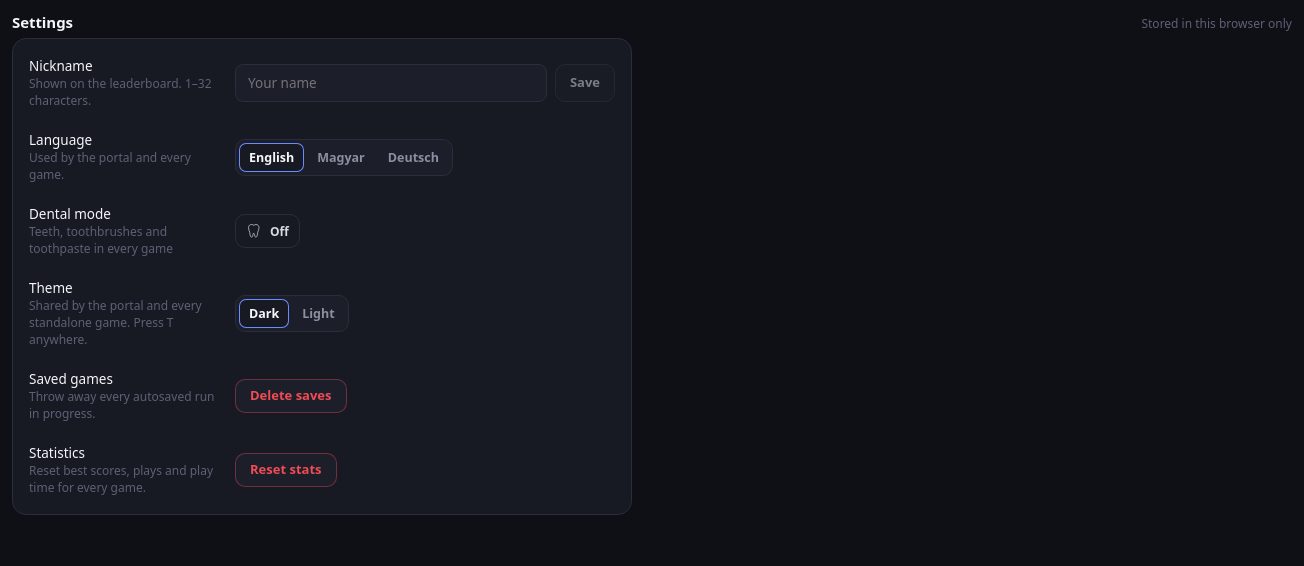
Scenario: Settings › switches language from the segmented control
This screenshot has width=1304, height=566.
Click the button "Magyar" at (341, 157), box [307,142,375,172]
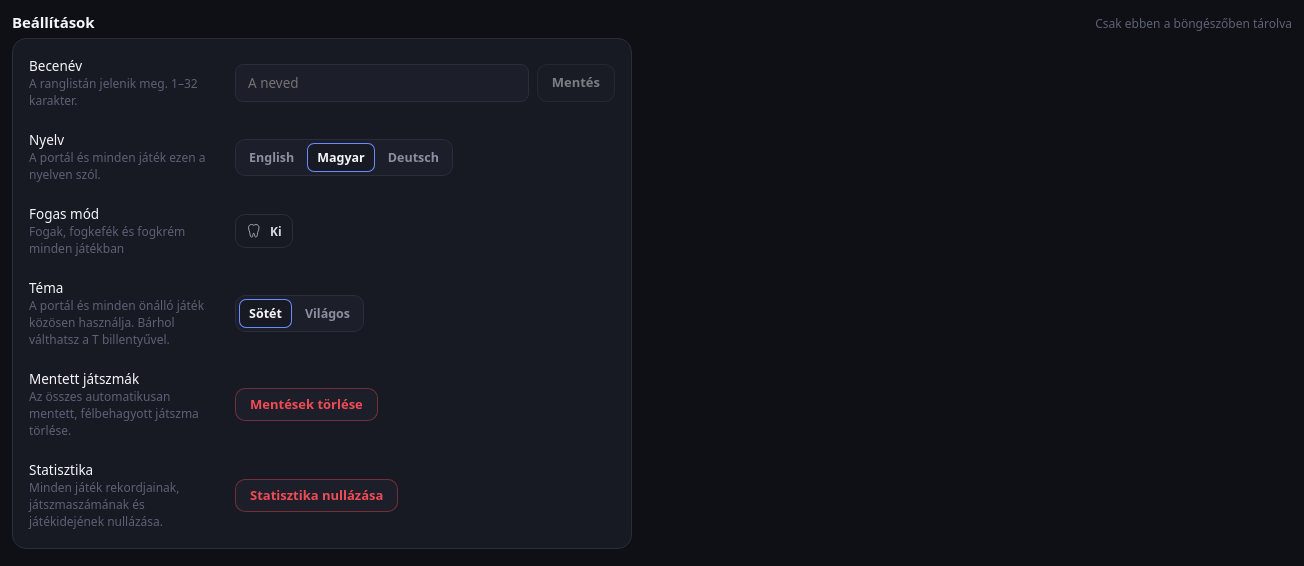
expect the heading "Beállítások" is shown: met, box [12,12,94,32]
expect the switch named "Fogas mód" is shown: met, box [235,214,293,248]
